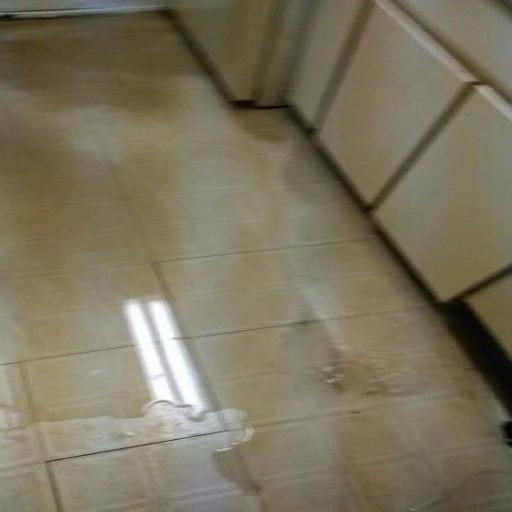wet_floor: (0, 10, 508, 511)
